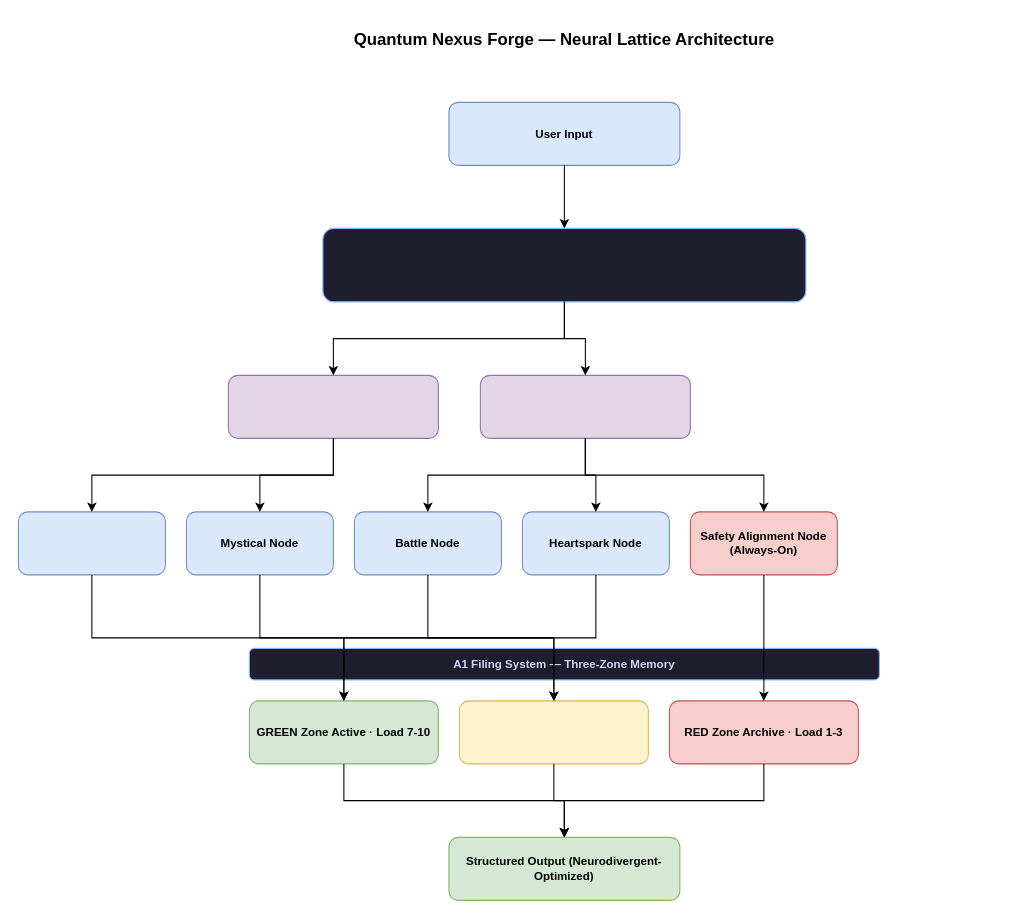
The diagram is 1024 pixels wide and 919 high, and some of its shapes have lost their labels. The shapes that lost their labels are listed below. From the top down, each one's box as (x1, y1, x2, y2) in pixels, then its label:
(322, 227, 806, 302): Cognitive Neural Overlay (CNO) Contextual Scoping · Session State
(227, 374, 438, 438): Cognormind Forge (Deep Synthesis)
(479, 374, 690, 438): Nouron Harmonic (Paradox Resolution)
(17, 511, 165, 575): Canonical Node
(458, 700, 648, 764): YELLOW Zone Pattern · Load 4-6
